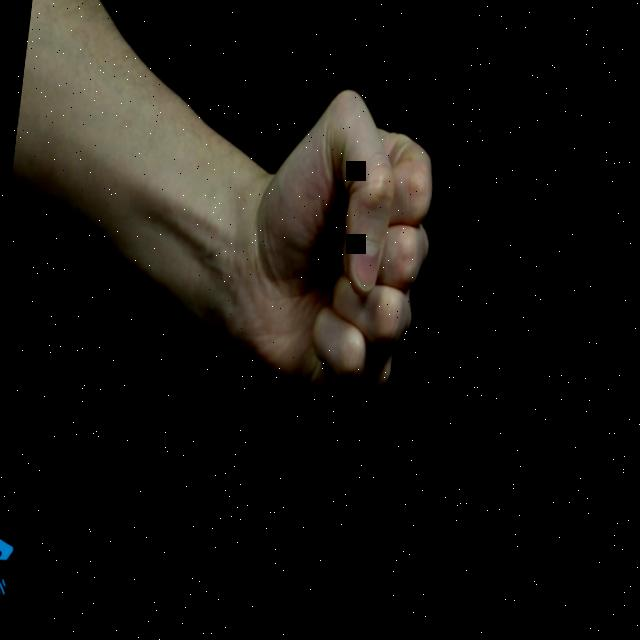Rock: (231, 74, 448, 424)
